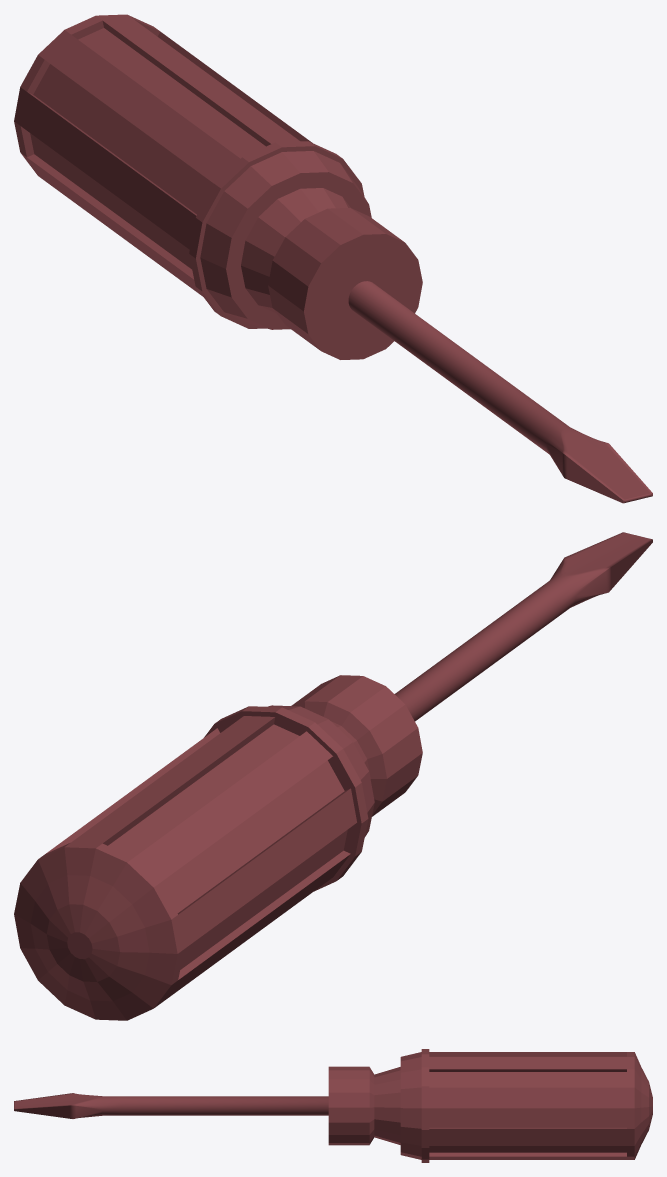
The model's file is FlatHead_colored.fbx.
3 views of the same model, one above another, from view 1: azimuth 30°, elevation 25°; view 2: azimuth 150°, elevation 25°; view 3: azimuth 270°, elevation 25° (orthographic). The views are drawn at different scales.
Visible parts, largest first — view 1: Circle; view 2: Circle; view 3: Circle.
Boxes of the visible parts, box(x1,y1,x2,y2) form: Circle: box(14, 14, 652, 503); Circle: box(14, 532, 652, 1020); Circle: box(14, 1049, 652, 1162).
Size of the model in its own units: 4.64 by 4.64 by 25.99.
